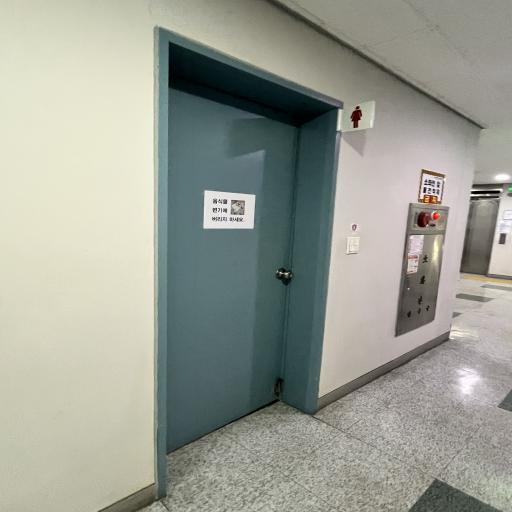door: (156, 27, 344, 502)
